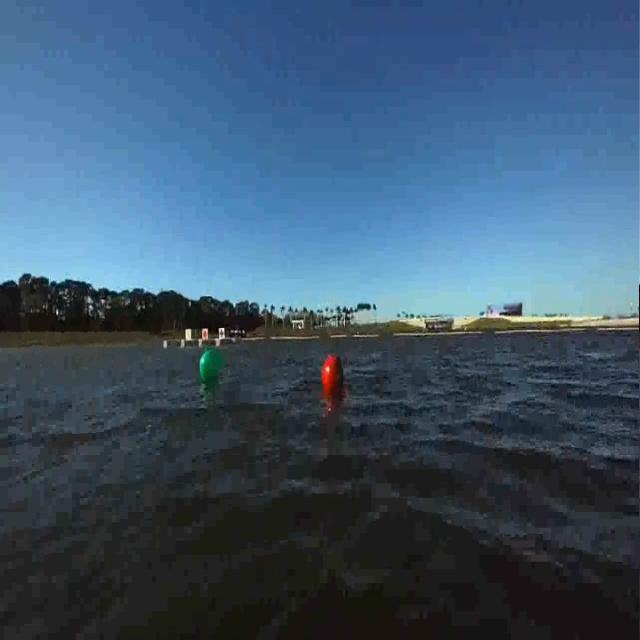green-buoy: (201, 348, 224, 382)
red-buoy: (325, 354, 345, 392)
